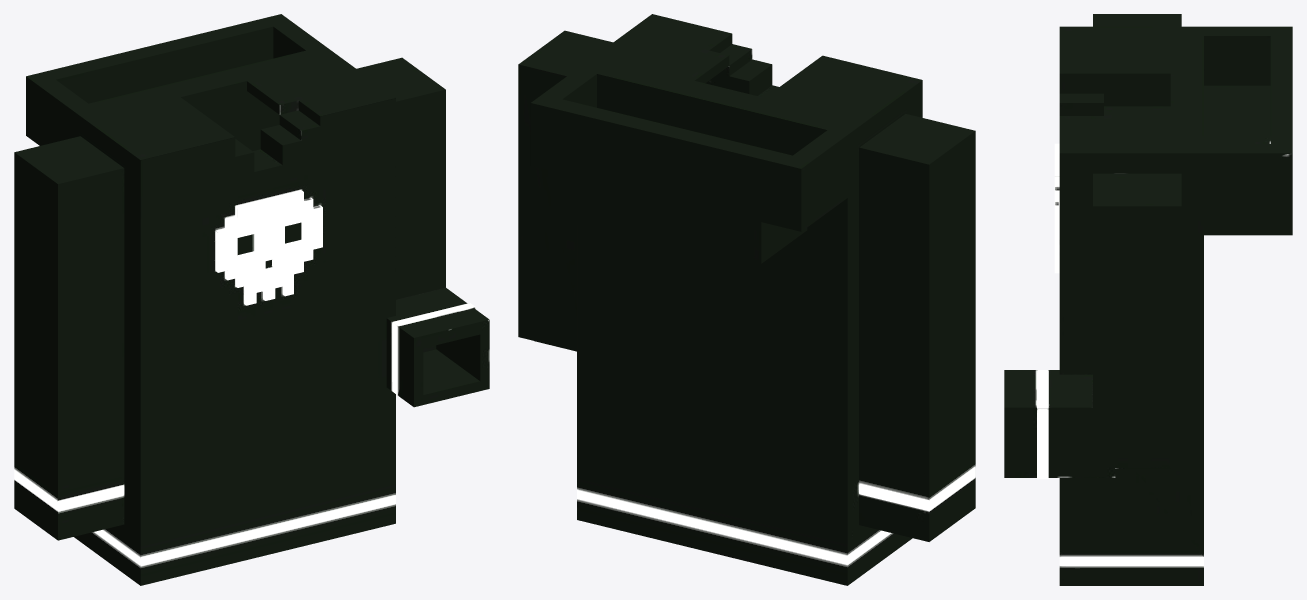
Rendered from skull_hoodie.glb.
3 renders of one model, left to right at view 1: azimuth 30°, elevation 25°; view 2: azimuth 150°, elevation 25°; view 3: azimuth 270°, elevation 25°, orthographic. The views are drawn at different scales.
Parts seen in each view (by area): view 1: hoodie_skull.001; view 2: hoodie_skull.001; view 3: hoodie_skull.001.
Boxes of the visible parts, box(x1,y1,x2,y2) form: hoodie_skull.001: box(14, 14, 489, 585); hoodie_skull.001: box(518, 14, 975, 585); hoodie_skull.001: box(1004, 14, 1292, 585).
Size of the model in its own units: 4.13 by 4.3 by 2.6.
1 material, 1 textured.
